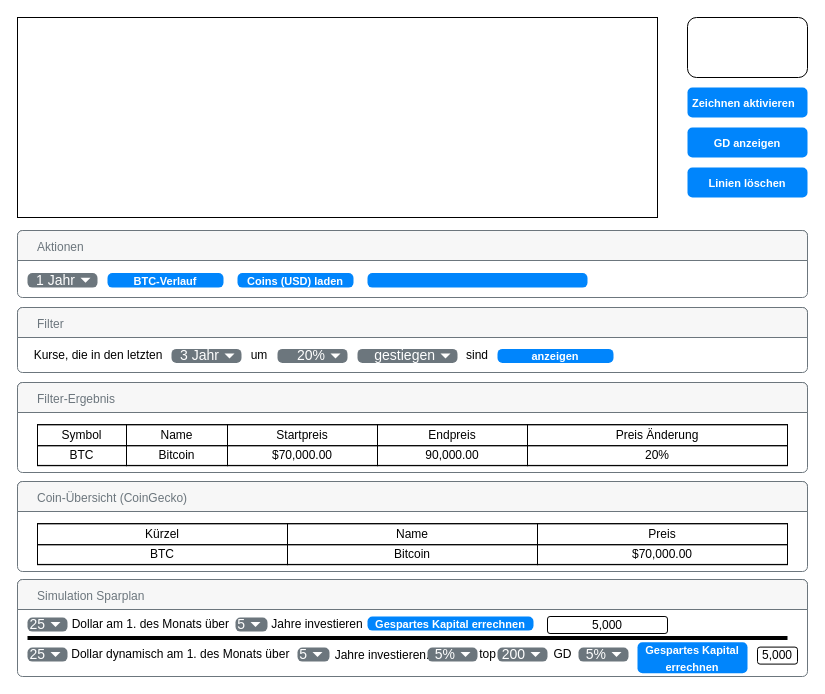
The diagram is 825 pixels wide and 694 high, and some of its shapes have lost their labels. Here are the shapes that lost their labels. From the top down, the box of each, then its label:
(686, 16, 808, 78): Kurs Anzeige
(16, 16, 658, 218): Diagramm
(367, 273, 587, 287): Coins aus Tabelle -> CSV exportieren
